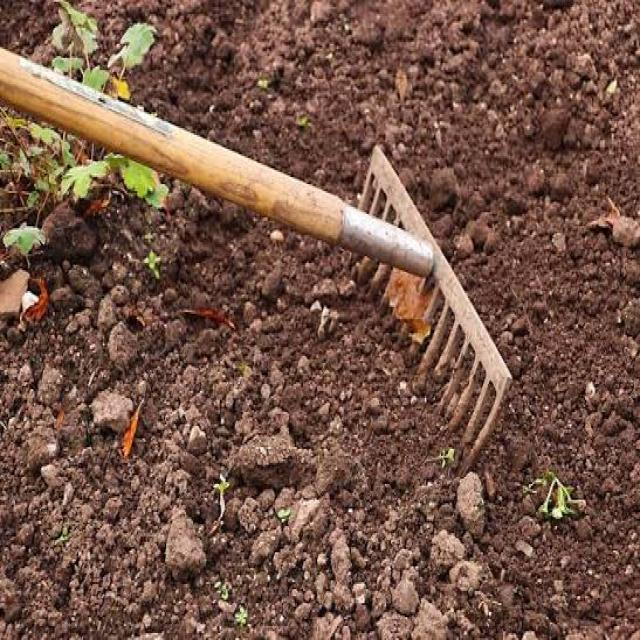suelo_humedo: (465, 42, 595, 316)
